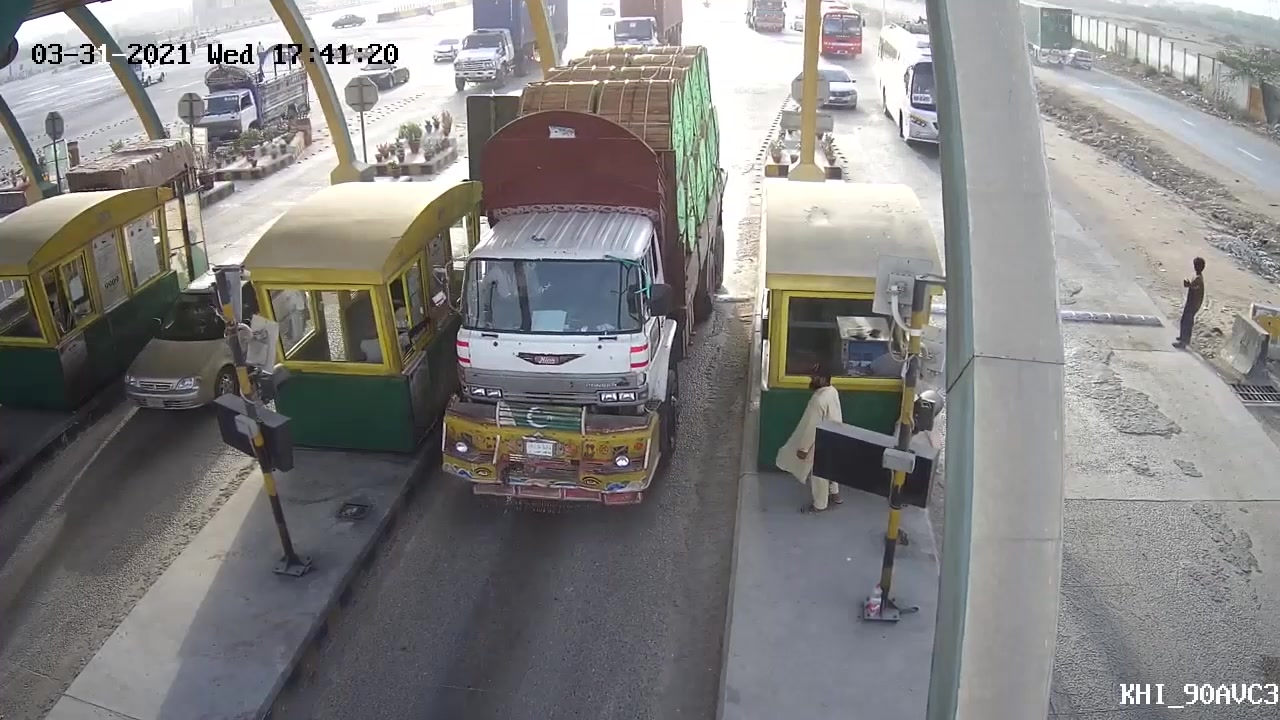F5: (434, 27, 731, 511)
